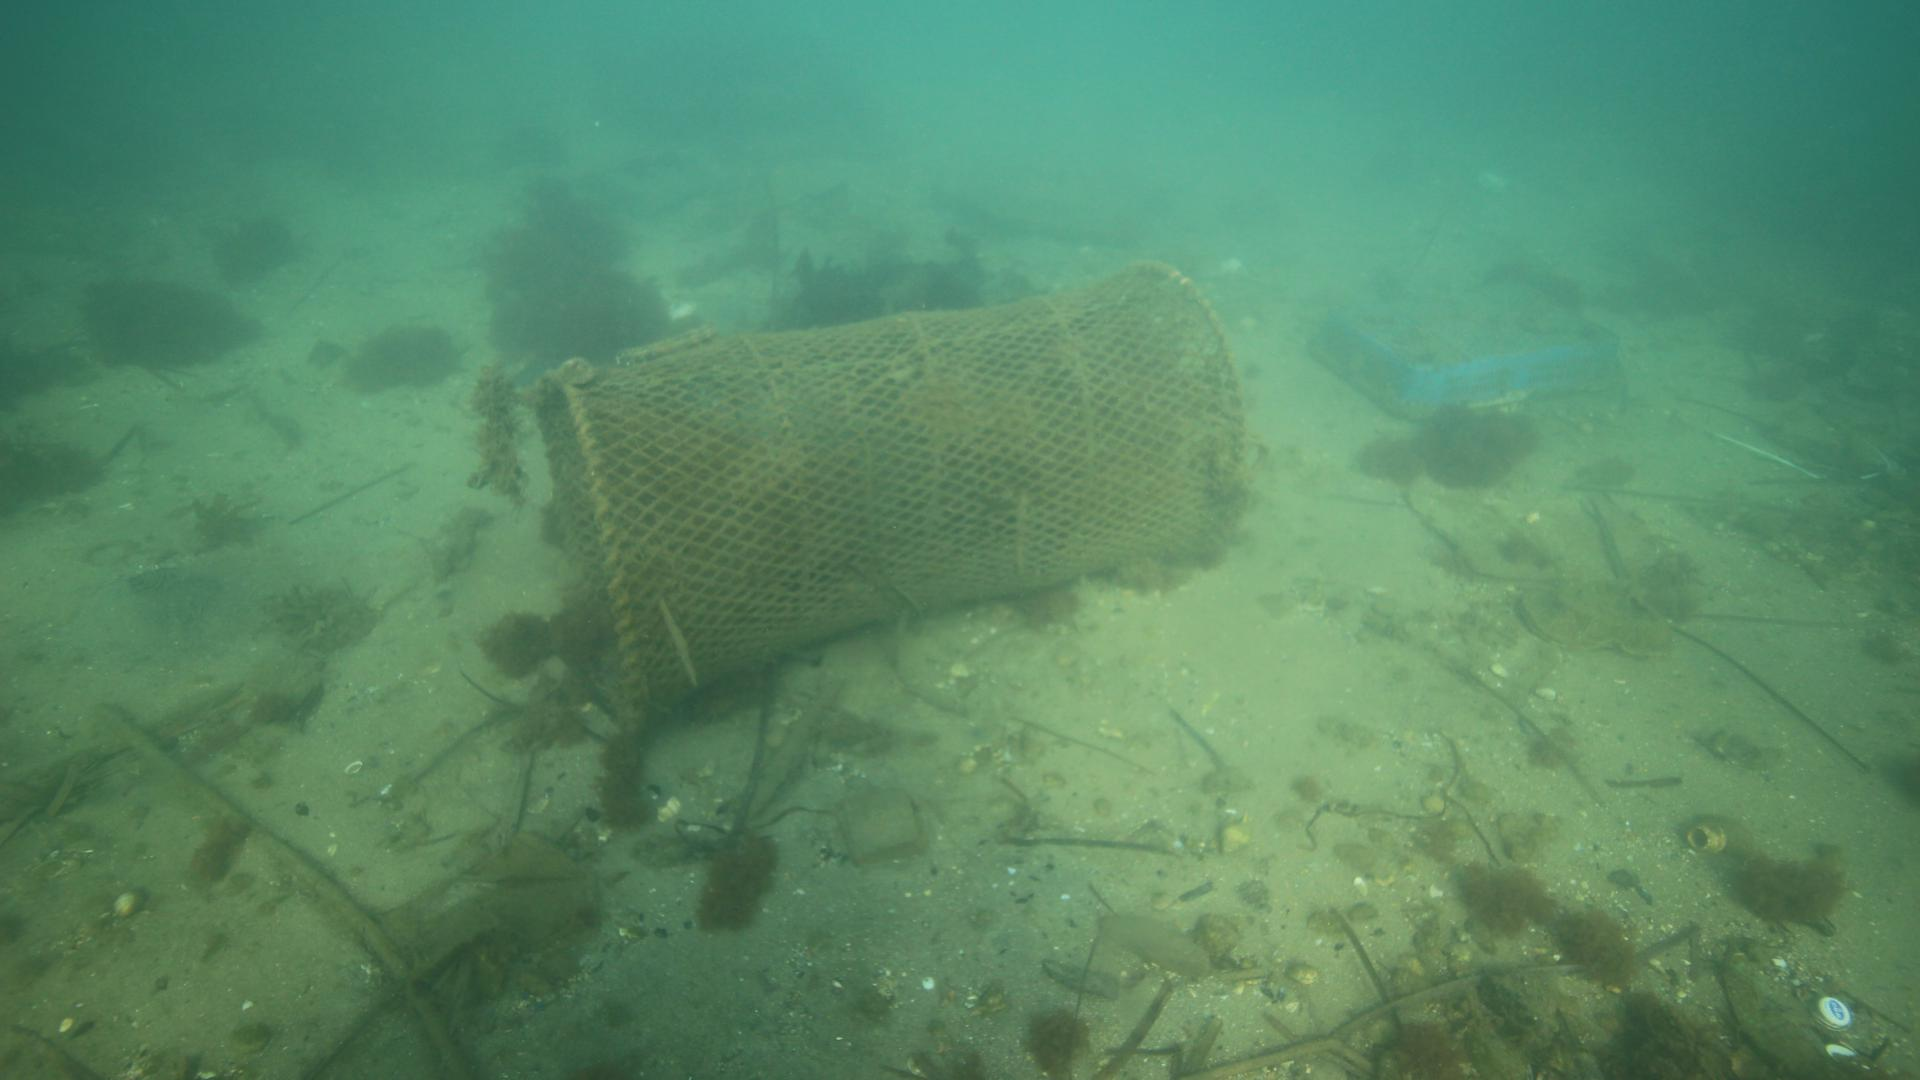spring fish trap: (535, 261, 1245, 738)
